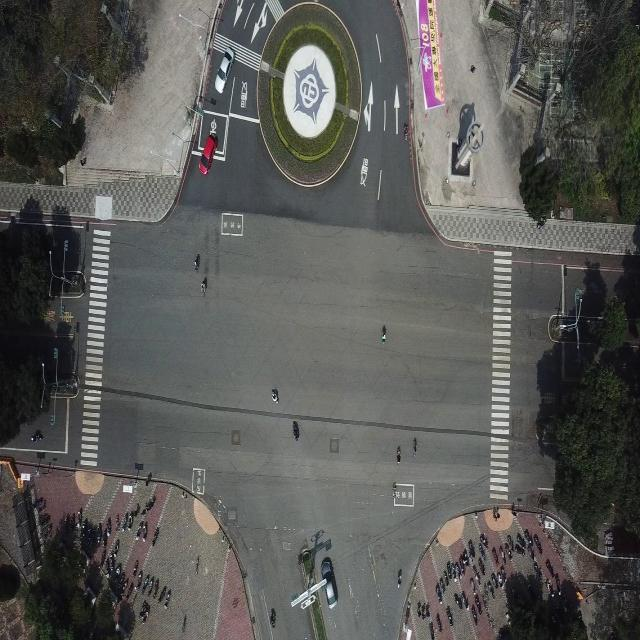bike: (534, 532, 543, 555), (270, 386, 280, 406), (474, 592, 483, 614), (31, 428, 44, 443), (446, 604, 454, 628), (164, 588, 172, 611), (120, 510, 128, 533), (545, 577, 554, 597), (292, 419, 300, 441), (200, 276, 208, 297), (472, 564, 480, 585), (498, 545, 506, 566), (454, 592, 463, 610), (517, 532, 526, 550), (546, 559, 555, 577), (533, 560, 542, 578), (142, 575, 150, 595), (152, 526, 160, 546), (142, 605, 150, 625), (136, 520, 143, 542), (479, 532, 488, 549), (136, 570, 144, 589), (126, 582, 134, 601), (478, 557, 486, 576), (504, 542, 512, 561), (397, 565, 403, 590), (140, 503, 150, 518), (516, 543, 526, 558), (193, 253, 200, 274), (436, 613, 443, 634), (459, 555, 466, 576), (140, 601, 148, 619), (438, 576, 446, 594), (463, 549, 471, 567), (487, 580, 495, 598), (524, 529, 533, 545), (131, 586, 138, 606), (455, 560, 462, 580), (555, 573, 562, 593), (128, 510, 134, 533), (436, 582, 442, 605), (507, 534, 515, 551), (147, 496, 156, 511), (428, 621, 435, 640), (462, 591, 469, 610), (468, 538, 475, 557), (106, 516, 112, 538), (102, 526, 108, 548), (109, 550, 115, 572), (451, 561, 457, 583), (100, 550, 107, 568), (469, 576, 476, 594), (492, 547, 499, 565), (270, 607, 276, 627), (148, 576, 154, 596), (76, 510, 82, 530), (425, 597, 430, 621), (472, 604, 478, 624), (479, 543, 486, 560), (153, 579, 159, 598), (443, 568, 449, 587), (159, 587, 166, 603), (500, 566, 507, 582), (527, 546, 535, 560), (97, 522, 102, 544), (421, 598, 426, 620), (447, 560, 452, 582), (491, 573, 498, 588), (396, 445, 401, 465), (133, 558, 138, 578), (143, 521, 148, 541), (114, 542, 120, 558), (497, 570, 503, 586), (381, 324, 386, 343), (392, 480, 397, 498), (134, 502, 140, 517), (404, 123, 408, 144), (413, 437, 417, 457), (115, 513, 119, 531), (417, 600, 421, 618)
car: (214, 46, 235, 94), (320, 556, 337, 608), (198, 132, 218, 176)
